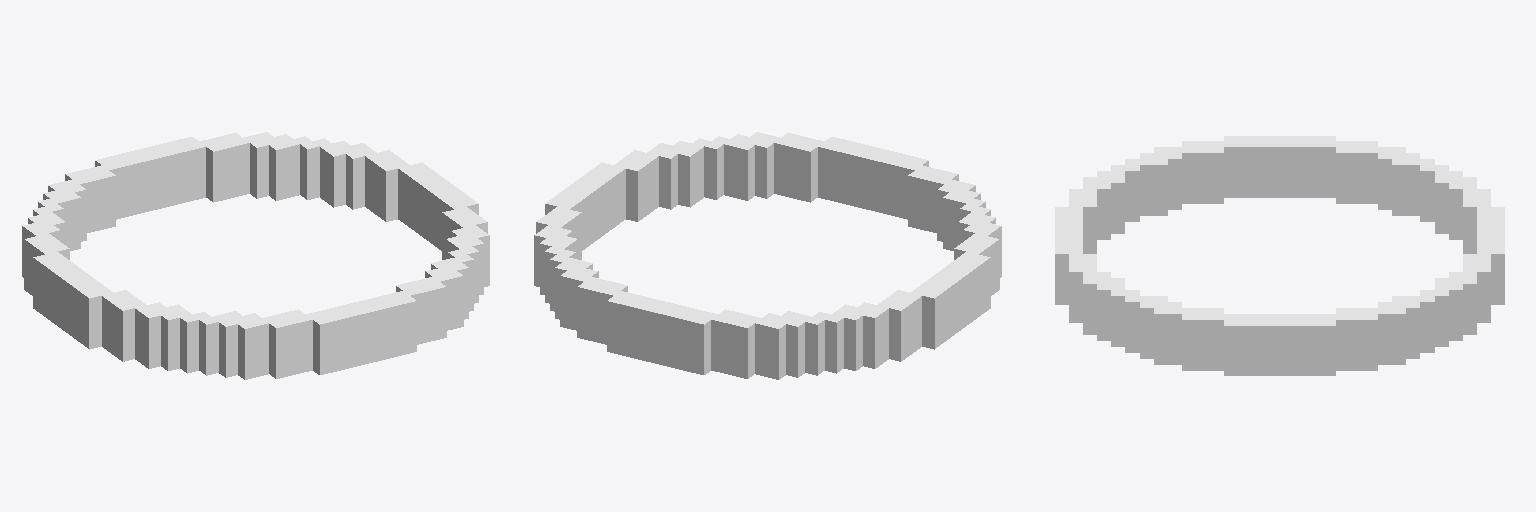
File: charSele.obj
3 views of the same model, side by side, from view 1: azimuth 30°, elevation 25°; view 2: azimuth 150°, elevation 25°; view 3: azimuth 270°, elevation 25° (orthographic).
Visible parts, largest first — view 1: object 1; view 2: object 1; view 3: object 1.
Boxes of the visible parts, x1=… form: object 1: x1=22, y1=132, x2=489, y2=379; object 1: x1=534, y1=132, x2=1001, y2=379; object 1: x1=1055, y1=136, x2=1504, y2=375.
Bounding box in the file's own units: 3.2 × 0.4 × 3.2.